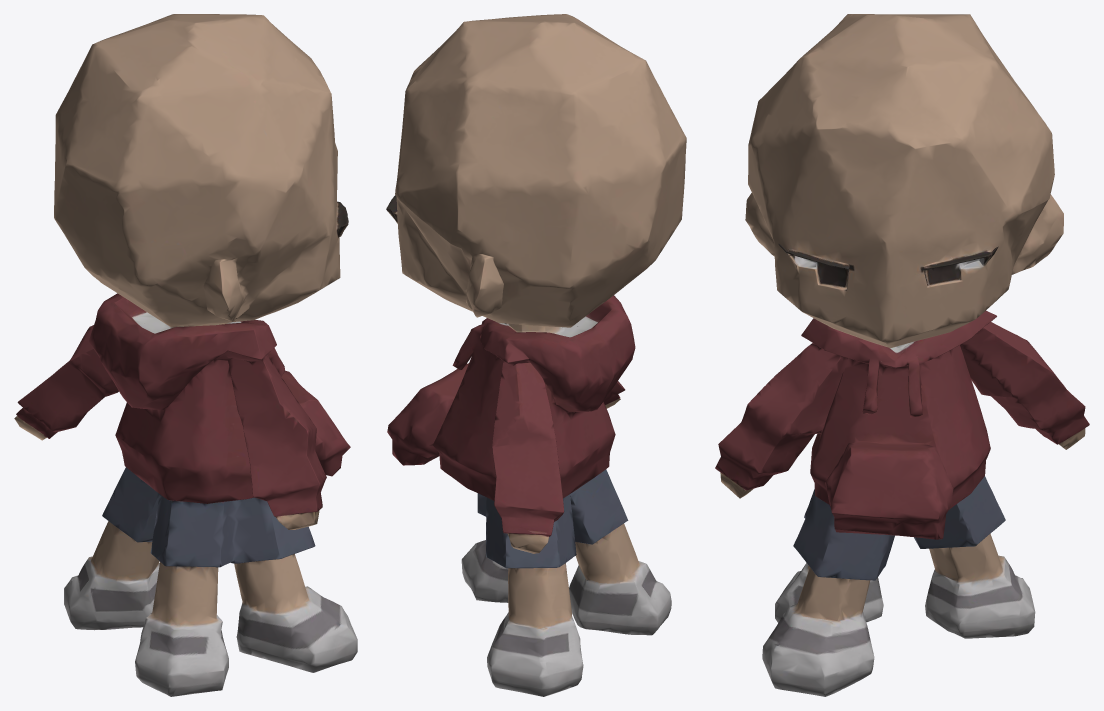
File: _dressed_3view.glb
The picture shows the model from 3 angles, left to right: view 1: azimuth 30°, elevation 25°; view 2: azimuth 150°, elevation 25°; view 3: azimuth 270°, elevation 25°; orthographic projection.
Visible parts, largest first — view 1: tripo_node_649b28f8-94f3-4c90-92df-135fb98e8104; view 2: tripo_node_649b28f8-94f3-4c90-92df-135fb98e8104; view 3: tripo_node_649b28f8-94f3-4c90-92df-135fb98e8104.
Part boxes in pixels (box(x1,y1,x2,y2)): tripo_node_649b28f8-94f3-4c90-92df-135fb98e8104: box(14, 14, 357, 696); tripo_node_649b28f8-94f3-4c90-92df-135fb98e8104: box(386, 14, 686, 696); tripo_node_649b28f8-94f3-4c90-92df-135fb98e8104: box(715, 14, 1089, 696).
Bounding box in the file's own units: 0.4453 × 1 × 0.5414.
1 material, 1 textured.
